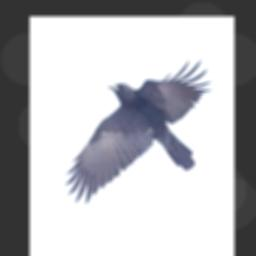Crow: (66, 59, 213, 202)
